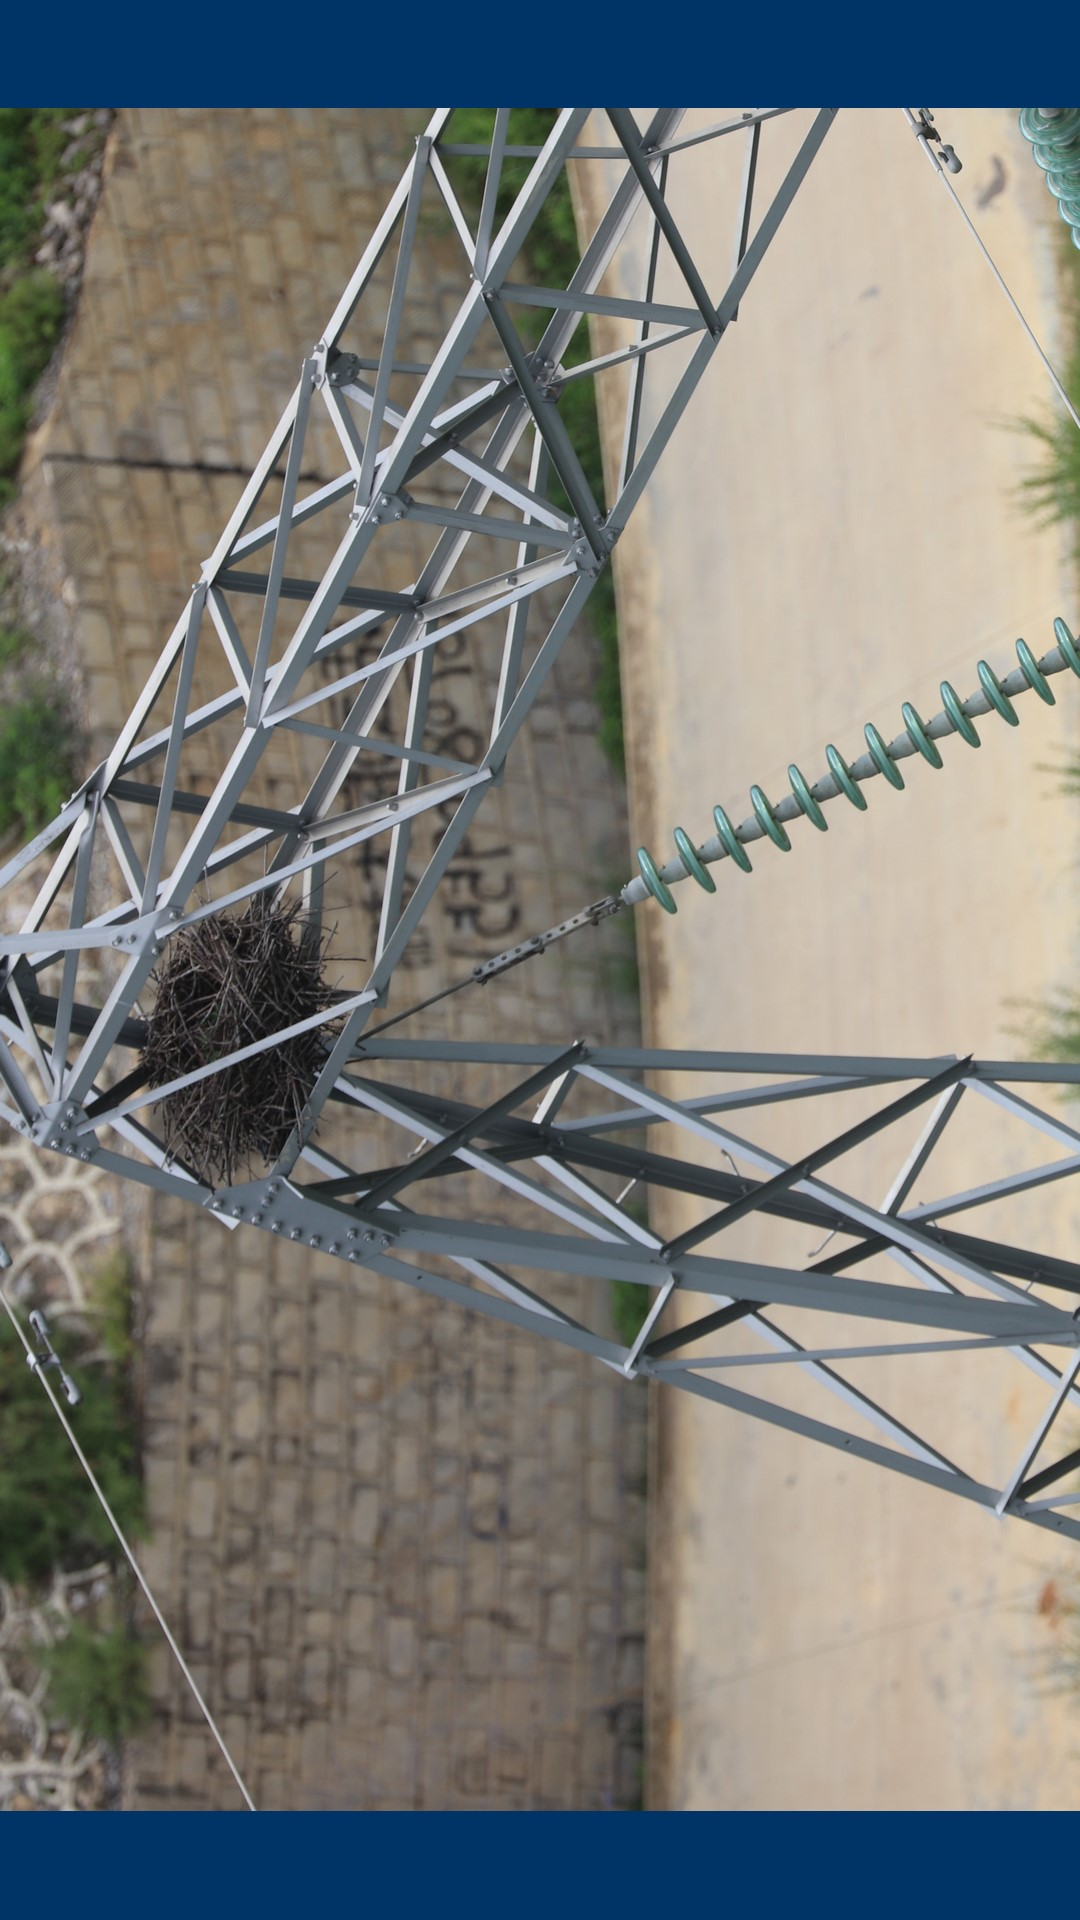niaowo: (94, 898, 382, 1197)
